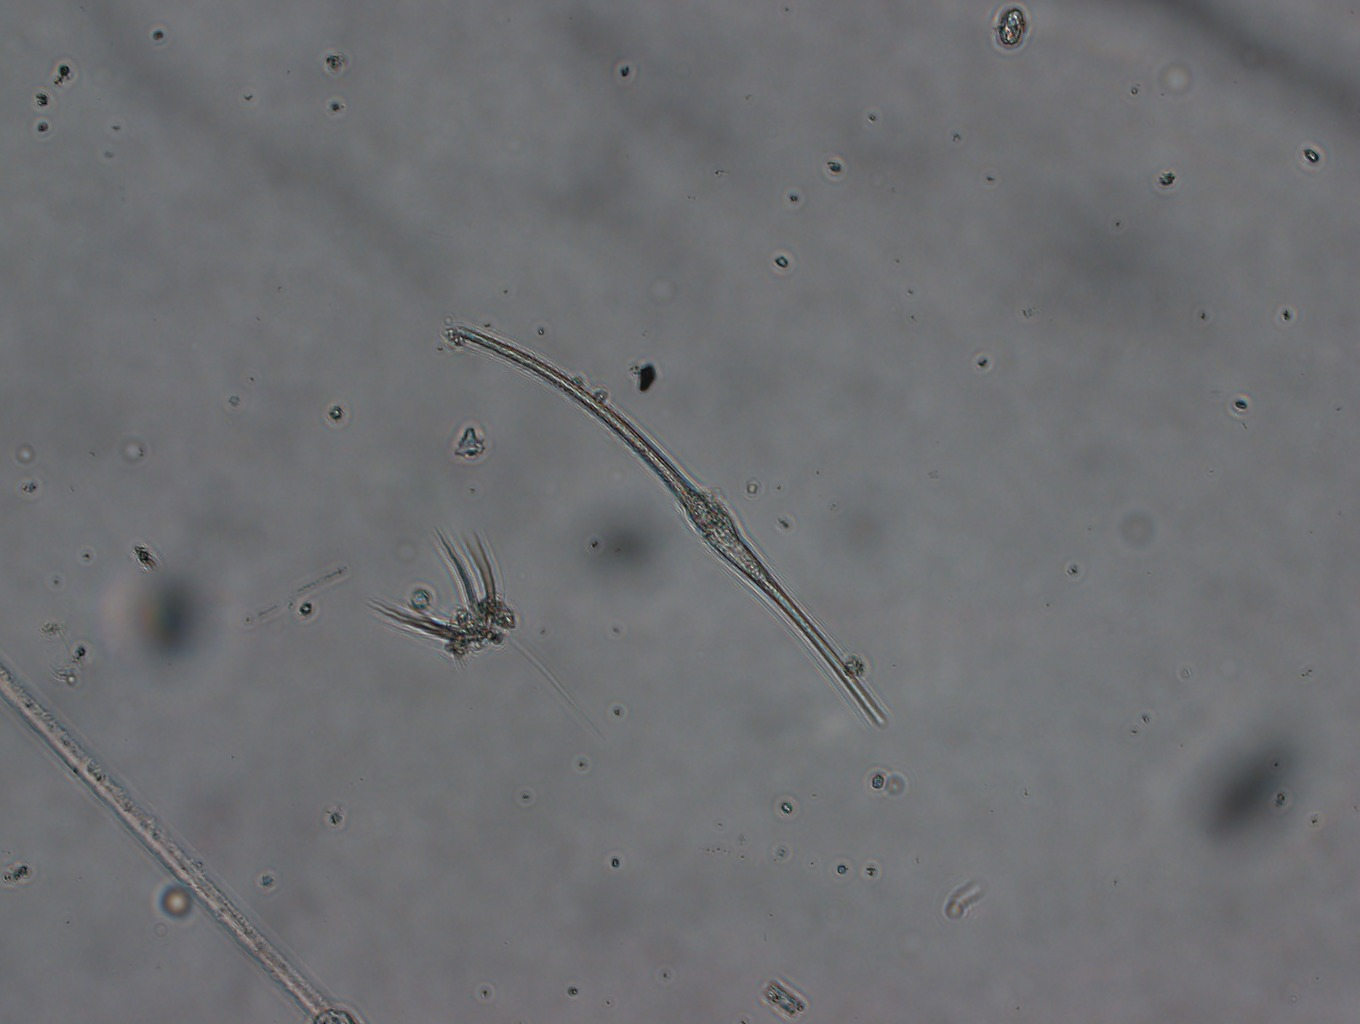ceratium fusus: (452, 318, 890, 734)
